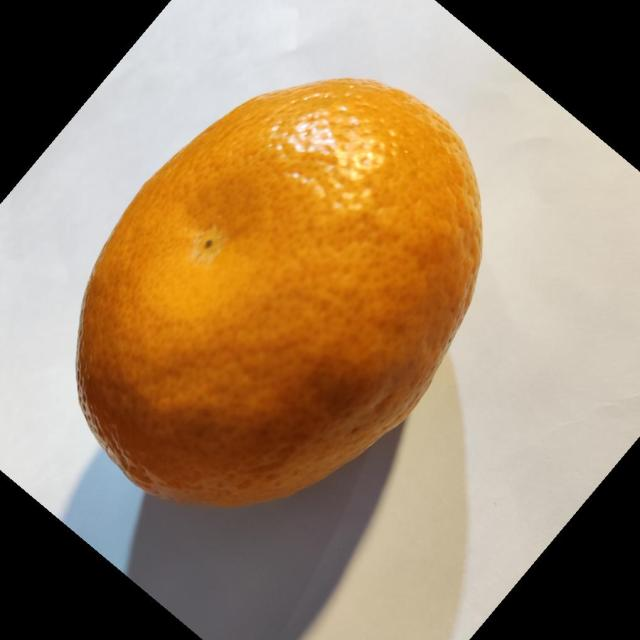fresh orange: (74, 76, 484, 508)
